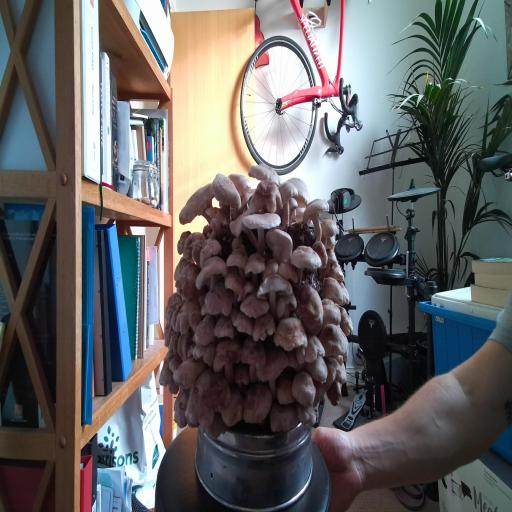Shiitake Mushroom: (164, 355, 249, 443), (246, 258, 304, 323), (244, 335, 299, 395), (164, 342, 215, 400), (228, 326, 278, 385), (168, 180, 224, 228), (161, 293, 213, 339), (214, 382, 254, 437), (292, 281, 328, 338), (298, 187, 334, 243), (203, 170, 251, 211), (186, 250, 235, 290), (210, 331, 244, 386), (286, 363, 323, 413), (267, 314, 313, 354), (232, 285, 278, 325), (296, 346, 339, 388), (227, 208, 260, 262), (196, 408, 235, 450), (152, 352, 183, 404), (242, 308, 284, 346), (221, 161, 259, 203), (292, 326, 327, 370), (189, 230, 229, 268), (316, 274, 358, 309), (284, 165, 315, 212), (243, 381, 273, 426), (223, 305, 261, 340), (180, 224, 208, 269), (202, 279, 234, 318), (244, 158, 287, 187), (174, 255, 200, 301), (160, 287, 186, 333), (265, 225, 294, 265), (271, 255, 306, 288), (330, 302, 360, 340), (249, 179, 282, 213), (268, 401, 302, 433), (218, 268, 252, 299), (318, 323, 349, 357), (171, 324, 197, 364), (288, 399, 321, 428), (323, 353, 347, 392), (322, 376, 347, 411), (310, 235, 333, 272), (276, 173, 301, 206), (241, 211, 282, 231), (172, 386, 190, 430), (324, 247, 346, 282), (290, 245, 322, 269), (223, 245, 252, 271), (274, 290, 299, 320), (194, 313, 216, 346), (201, 204, 232, 227), (256, 255, 284, 280), (321, 295, 342, 328), (173, 224, 193, 257), (243, 250, 266, 277), (162, 325, 181, 356), (320, 214, 340, 240), (277, 378, 296, 405), (311, 375, 327, 406), (214, 315, 234, 339), (234, 364, 250, 387), (210, 217, 223, 239), (289, 198, 297, 223), (295, 206, 305, 222)
